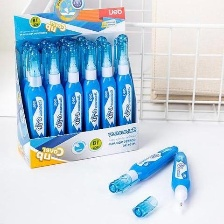book: (11, 0, 141, 170)
correction_fluid: (107, 143, 182, 195), (62, 43, 84, 159), (25, 49, 47, 162), (45, 46, 66, 160), (81, 42, 101, 157), (114, 38, 134, 148), (98, 40, 116, 152), (168, 150, 193, 208)
